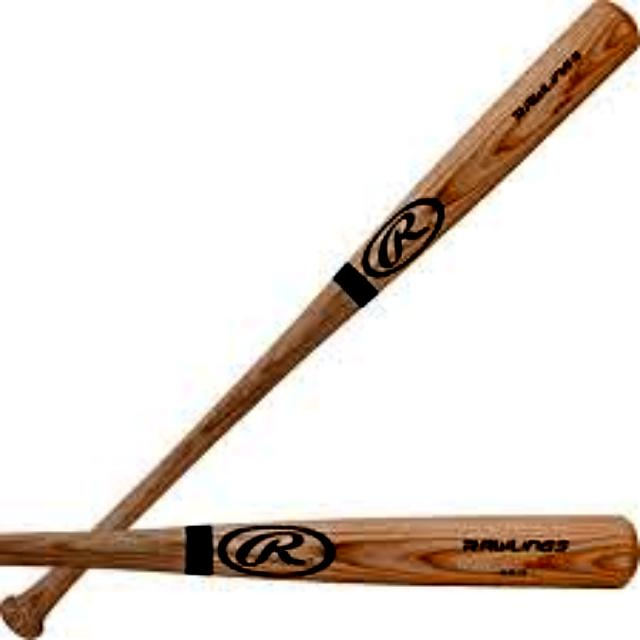baseball bat: (0, 3, 634, 634), (1, 511, 640, 594)
